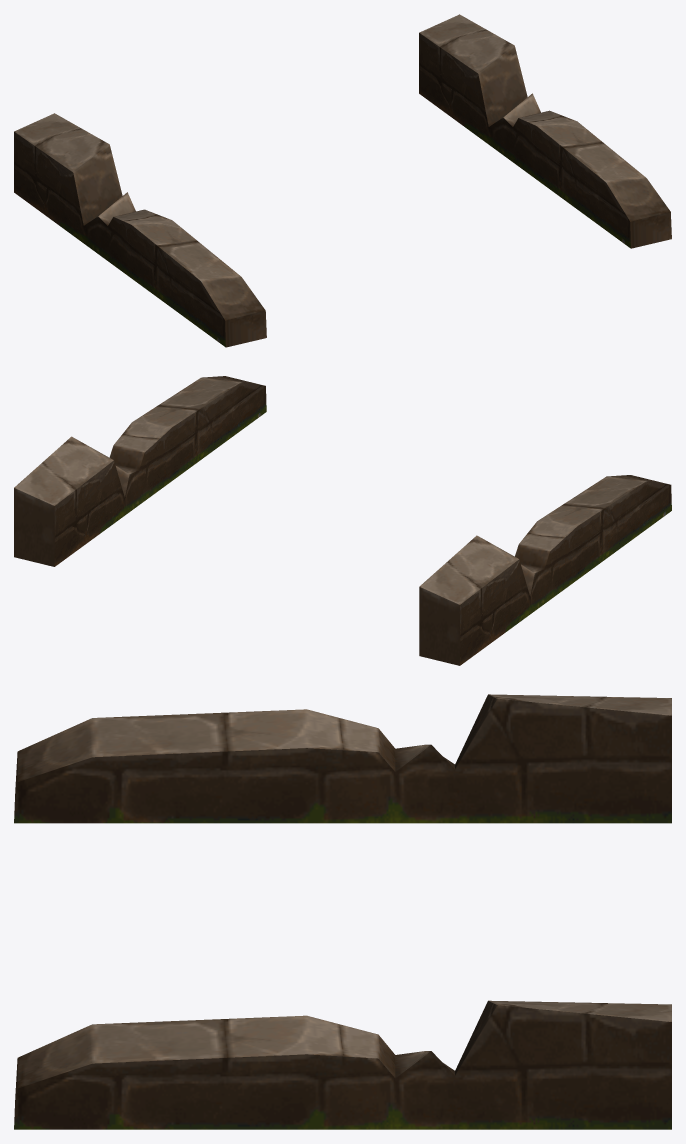
Rendered from yi_poqiang_1.FBX.
3 renders of one model, top to bottom at view 1: azimuth 30°, elevation 25°; view 2: azimuth 150°, elevation 25°; view 3: azimuth 270°, elevation 25°, orthographic. The views are drawn at different scales.
Parts seen in each view (by area): view 1: yi_poqiang_1; view 2: yi_poqiang_1; view 3: yi_poqiang_1.
Part boxes in pixels (x1,y1,x2,y2): yi_poqiang_1: (14,14,671,347); yi_poqiang_1: (14,376,671,665); yi_poqiang_1: (14,694,671,1129).
Size of the model in its own units: 775 by 132 by 639.
